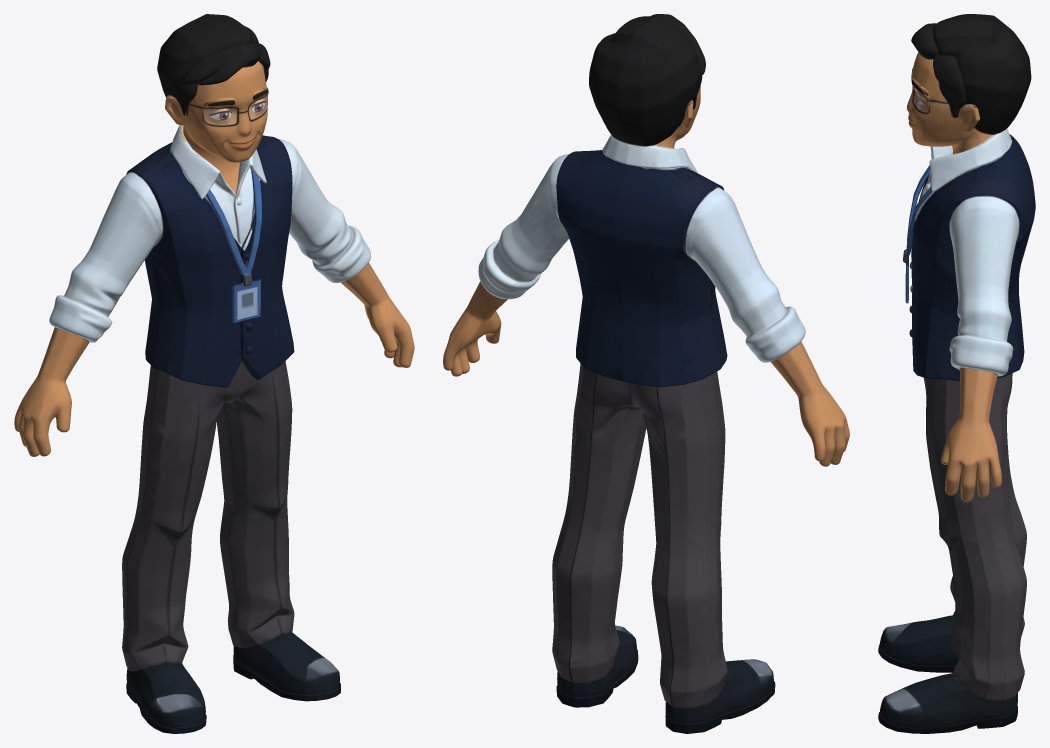
Rendered from Jonathan_Original.glb.
The picture shows the model from 3 angles, left to right: view 1: azimuth 30°, elevation 25°; view 2: azimuth 150°, elevation 25°; view 3: azimuth 270°, elevation 25°; orthographic projection.
Parts seen in each view (by area): view 1: Jonathan_Meshy; view 2: Jonathan_Meshy; view 3: Jonathan_Meshy.
Part boxes in pixels (x1=…): Jonathan_Meshy: x1=14, y1=14, x2=414, y2=733; Jonathan_Meshy: x1=443, y1=14, x2=849, y2=733; Jonathan_Meshy: x1=878, y1=14, x2=1035, y2=733.
Size of the model in its own units: 1.06 by 1.75 by 0.3707.
Materials: 1 (1 with a texture image).
